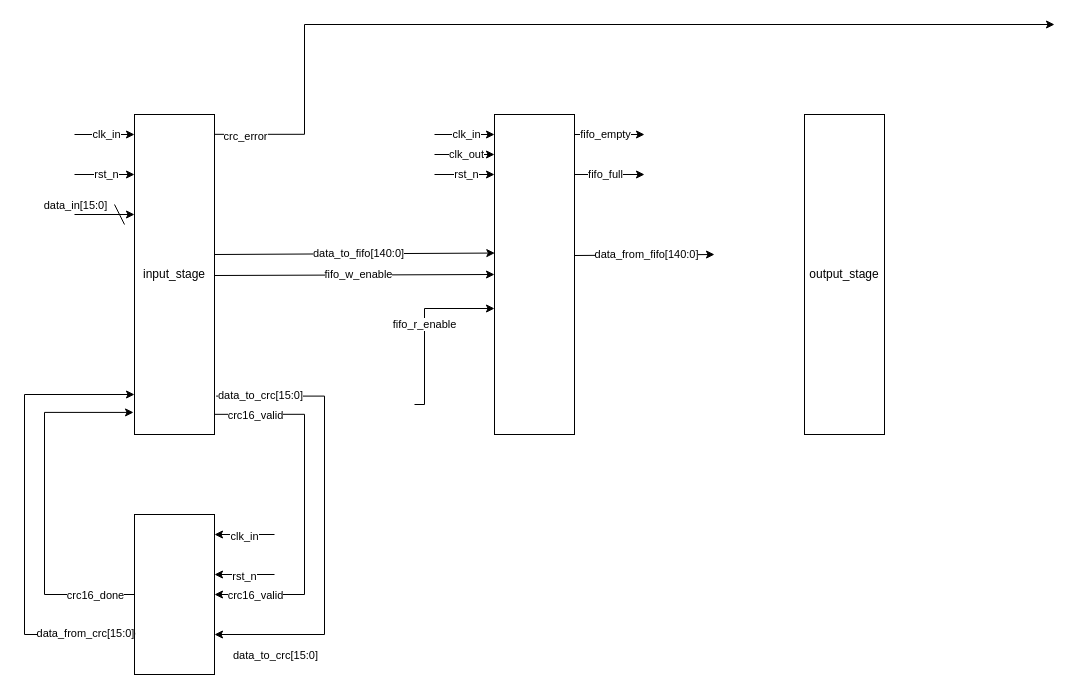
Some shapes in this 1080 by 692 pixel diagram are drawn without their labels. Here are the shapes that lost their labels. From the top down, the centre of each, then its label:
At (x=534, y=274): "Async_fifo".
At (x=174, y=594): "crc_calcu".
